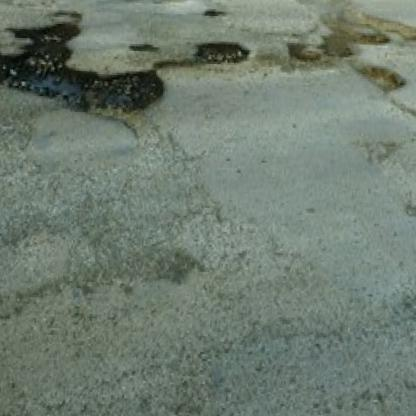pothole: (0, 15, 170, 126), (357, 8, 416, 44), (192, 38, 251, 68), (359, 63, 408, 95), (322, 26, 353, 60), (283, 38, 319, 65), (126, 42, 159, 53), (202, 6, 227, 19)
